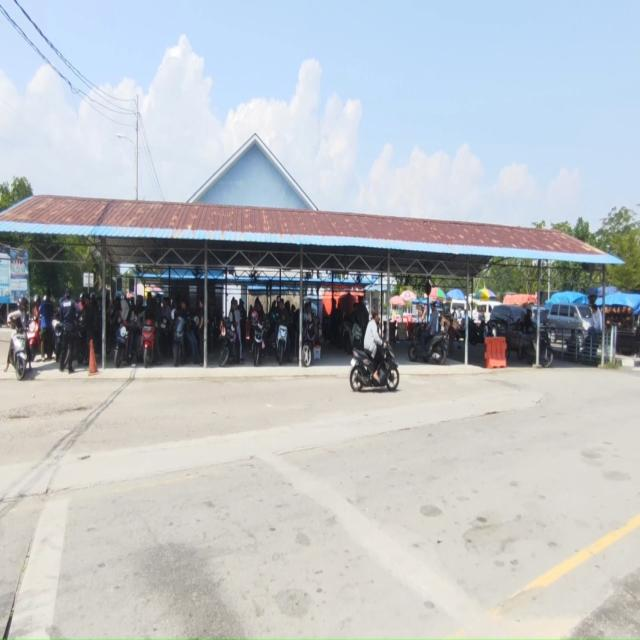Golongan II: (350, 345, 399, 392), (408, 324, 448, 365), (514, 328, 554, 368), (219, 319, 239, 367), (10, 329, 28, 380), (141, 320, 156, 368), (172, 316, 186, 367), (114, 322, 129, 368), (302, 320, 316, 368), (251, 321, 265, 366), (463, 319, 486, 345), (75, 321, 88, 365), (27, 319, 40, 361), (52, 318, 64, 362), (276, 324, 288, 365), (339, 318, 352, 353), (348, 321, 363, 351)
